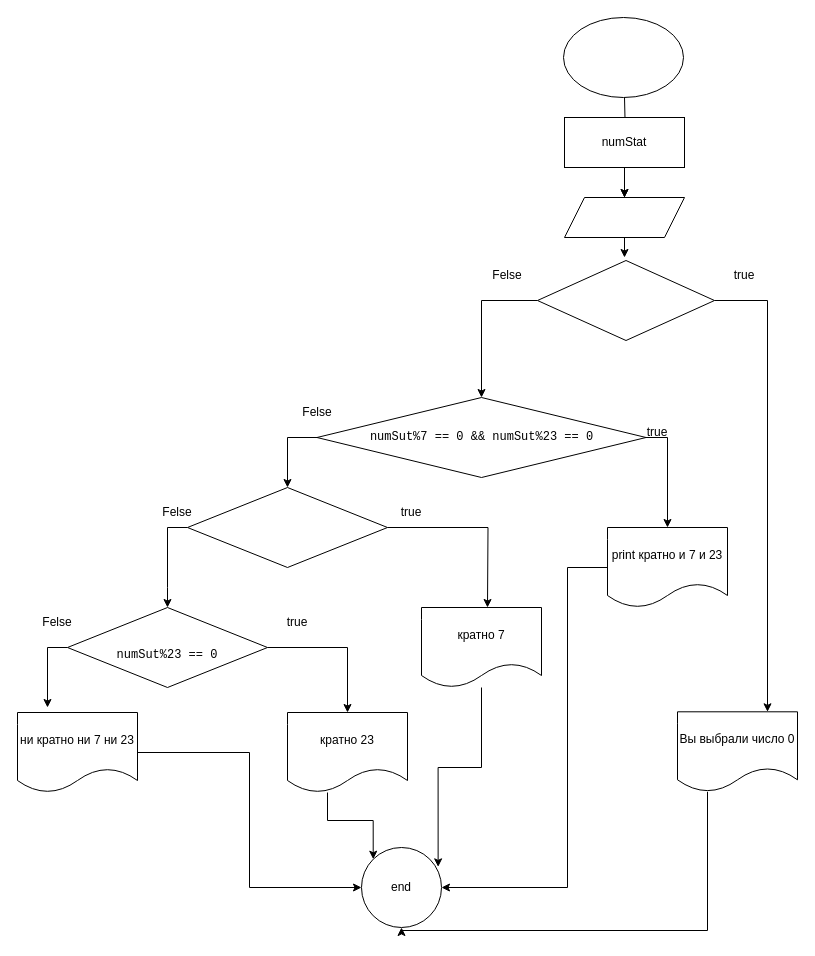
This 815x956 diagram has some shape labels left out. Each missing label, with the centre of its shape:
"If numStat == 0" goes at point (625, 300).
"numStat==num" goes at point (624, 217).
"numSut%7 == 0" goes at point (287, 527).
"start" goes at point (623, 57).
